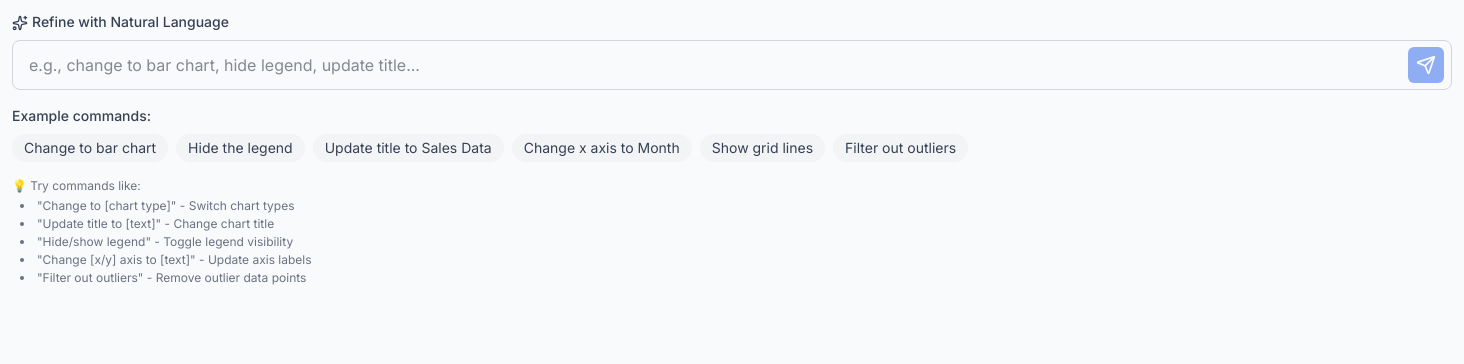
RefinementPanel › displays error message on refinement failure
Type "make it cool" into the field with placeholder "e.g., change to bar chart, hide legend, update title..." at (732, 65), box [12, 40, 1452, 90]
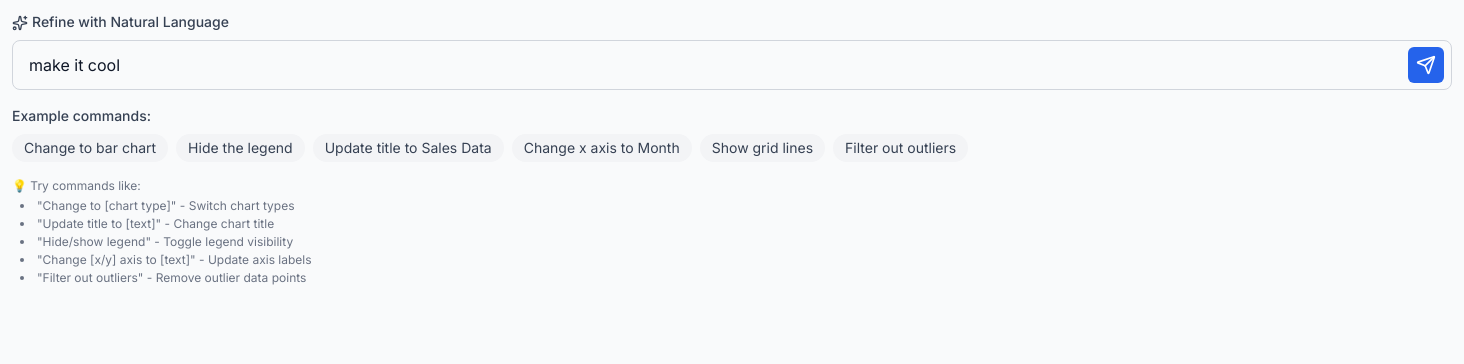
Click the button titled "Apply refinement" at (1426, 65), box [1408, 47, 1444, 83]
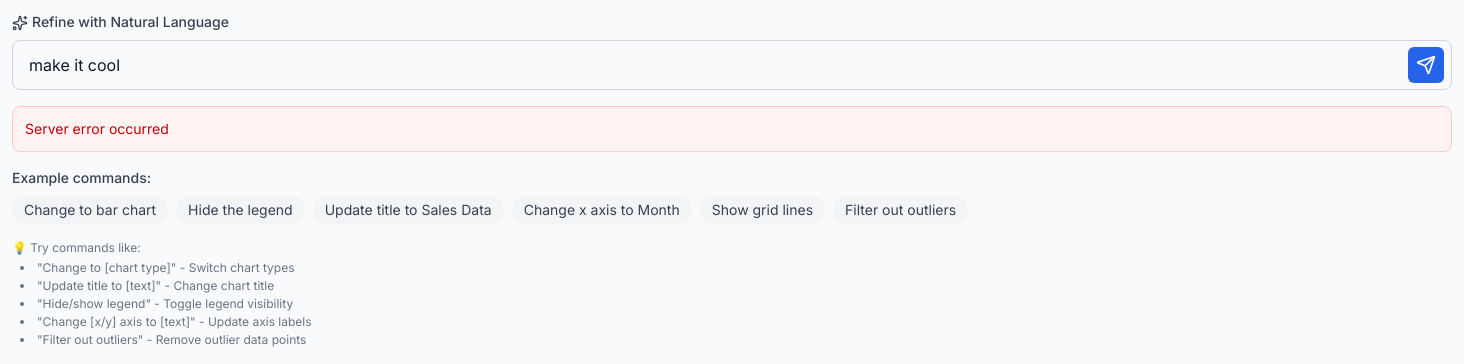
Result: the text "Server error occurred" is shown at [25, 120, 169, 137]
